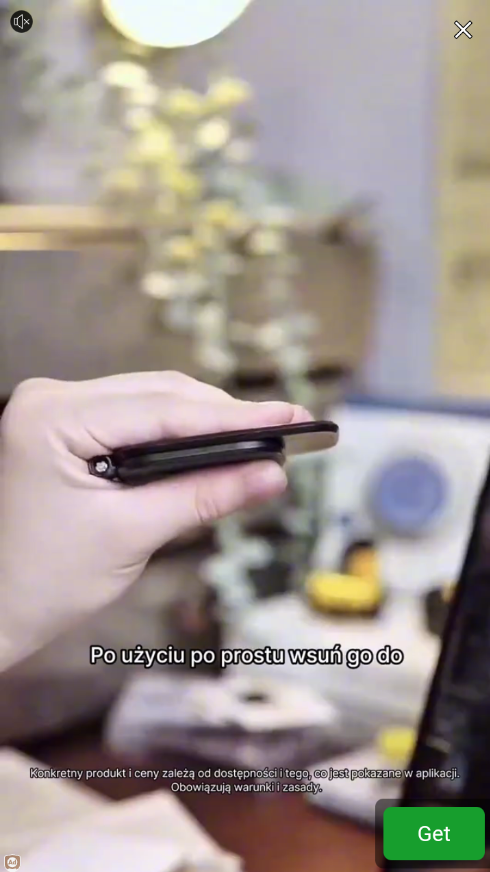close_button: (448, 15, 479, 45)
